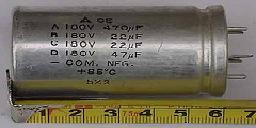Electrolytic-Capacitor: (9, 4, 255, 96)
